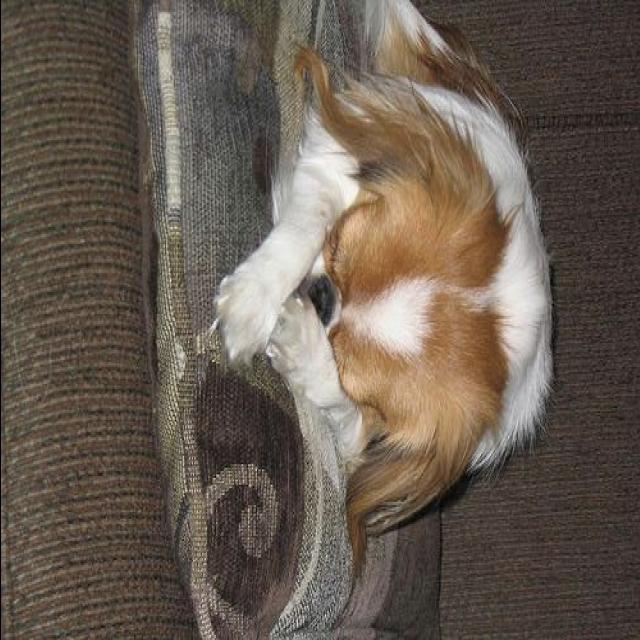husky: (215, 1, 559, 572)
